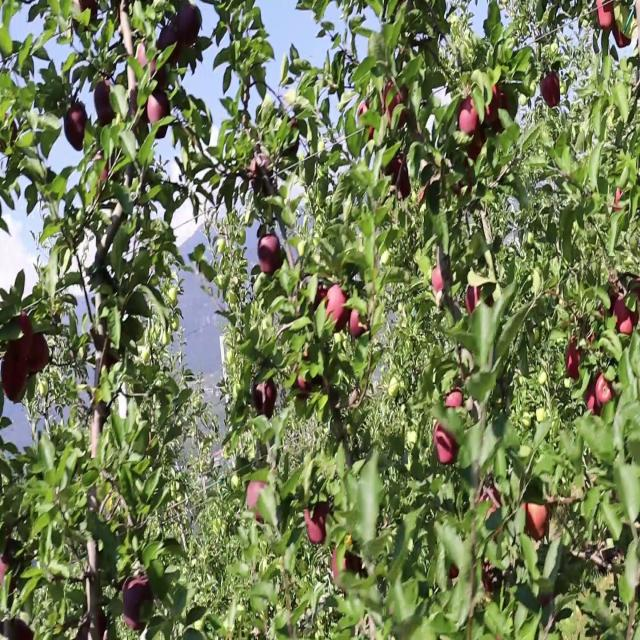apple: (124, 575, 154, 633), (140, 42, 168, 91), (4, 348, 28, 405), (324, 284, 350, 334), (92, 78, 116, 128), (384, 78, 409, 126), (304, 504, 331, 548), (256, 234, 283, 277), (136, 42, 163, 84), (64, 106, 88, 153), (176, 7, 202, 50), (160, 21, 183, 68), (12, 312, 35, 356), (28, 334, 51, 377), (476, 483, 503, 519), (436, 426, 459, 468), (524, 504, 549, 542), (252, 383, 279, 418), (356, 99, 376, 140), (612, 298, 633, 336), (148, 92, 171, 126), (540, 71, 561, 107), (248, 483, 268, 519), (460, 99, 480, 135), (612, 14, 632, 50), (568, 341, 584, 384), (332, 547, 351, 583), (596, 0, 616, 34), (136, 42, 155, 76), (84, 611, 107, 639), (456, 163, 473, 199), (596, 376, 617, 405), (468, 284, 487, 315), (468, 135, 488, 164), (484, 106, 504, 135), (96, 156, 114, 185), (492, 85, 511, 112), (608, 270, 623, 304), (152, 63, 170, 91), (628, 277, 640, 318), (352, 312, 369, 340), (400, 163, 413, 199), (468, 284, 483, 315), (444, 391, 465, 412), (296, 369, 311, 398), (76, 0, 99, 18), (432, 263, 445, 293), (8, 625, 34, 639), (632, 284, 640, 329), (316, 284, 329, 308), (0, 561, 10, 588), (592, 398, 604, 420), (588, 383, 597, 412), (616, 191, 624, 213), (452, 568, 460, 583)
